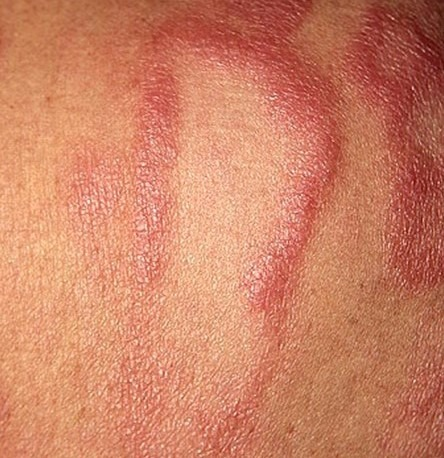Leprosy: (60, 0, 347, 454), (358, 2, 443, 309)
